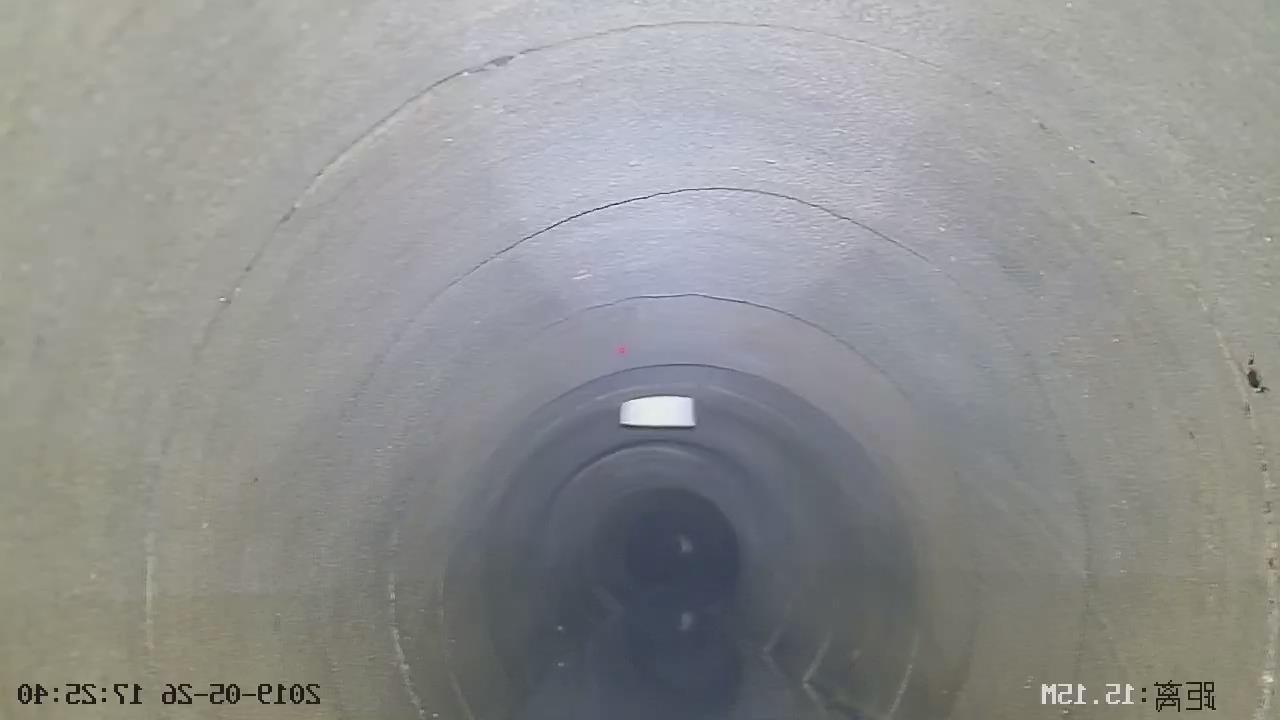CKTJ: (272, 48, 540, 236), (449, 185, 925, 286), (543, 291, 860, 353), (243, 247, 266, 281)
ZGAJ: (622, 396, 696, 425)
